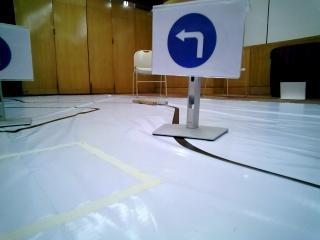left: (158, 11, 229, 73)
